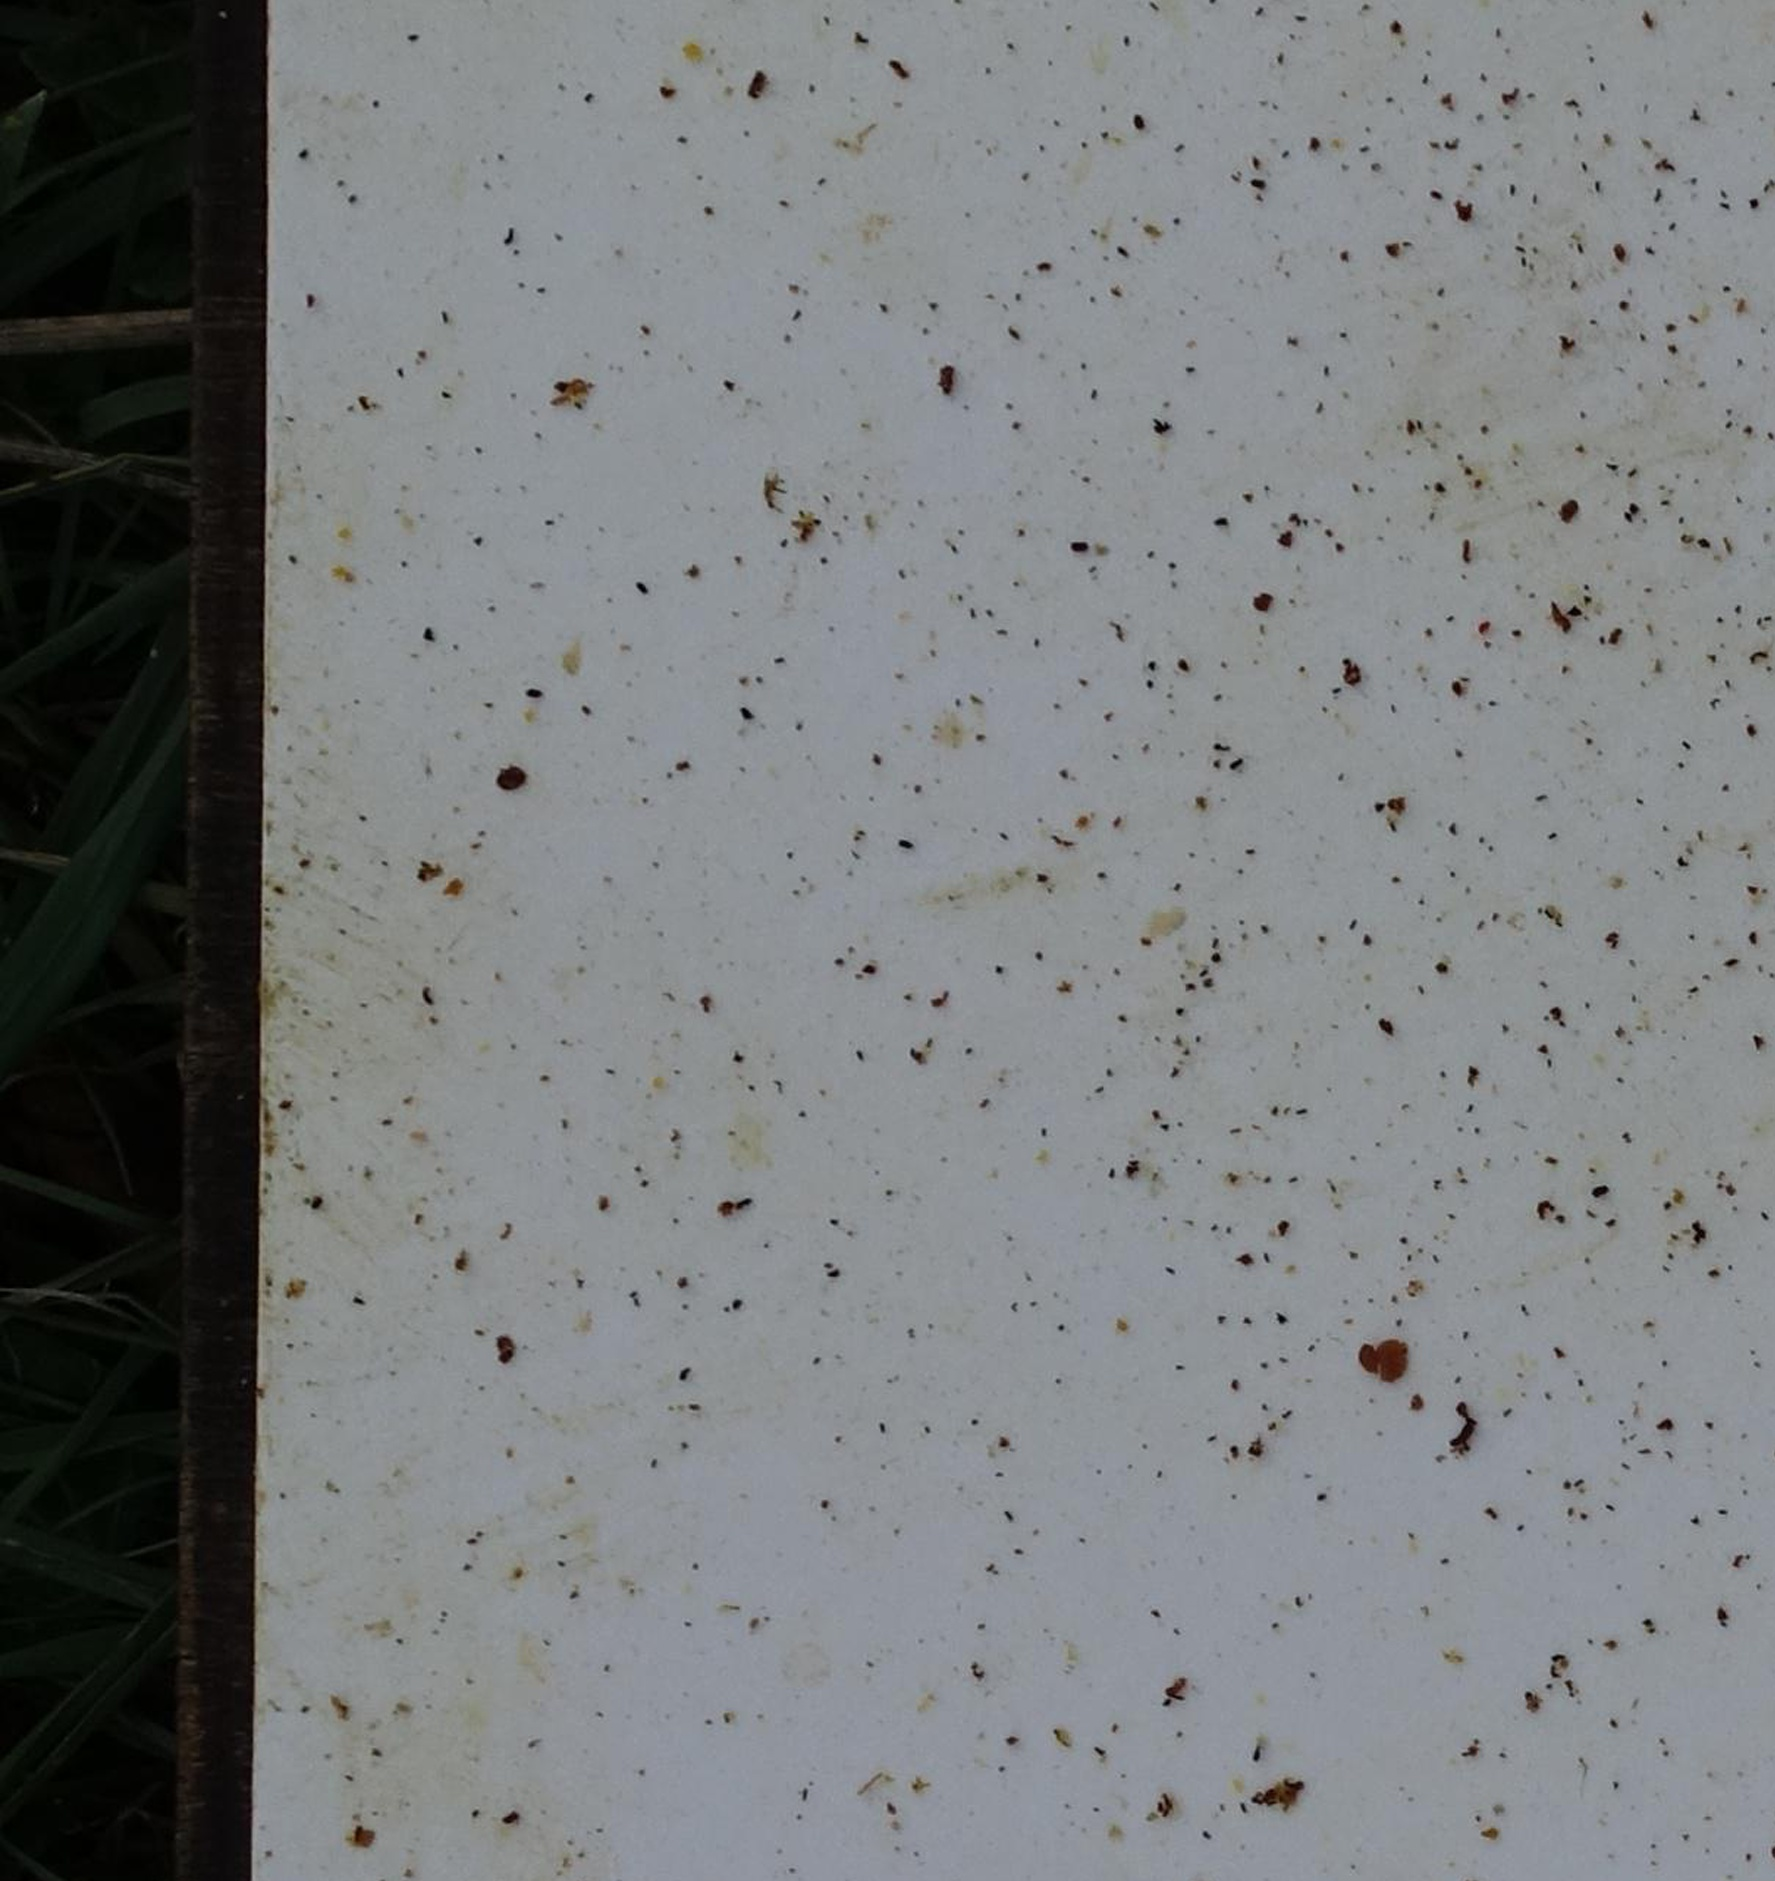Varroa: (492, 762, 529, 799)
